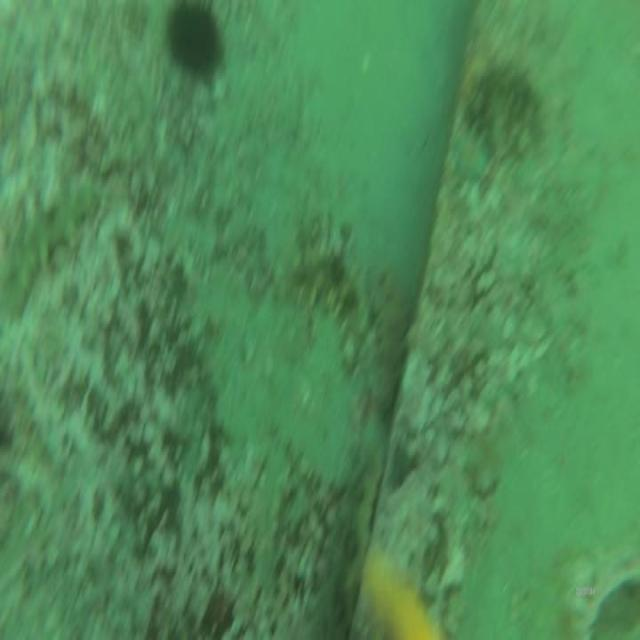echinus: (159, 0, 229, 81)
holothurian: (291, 229, 367, 367), (463, 51, 538, 150)
